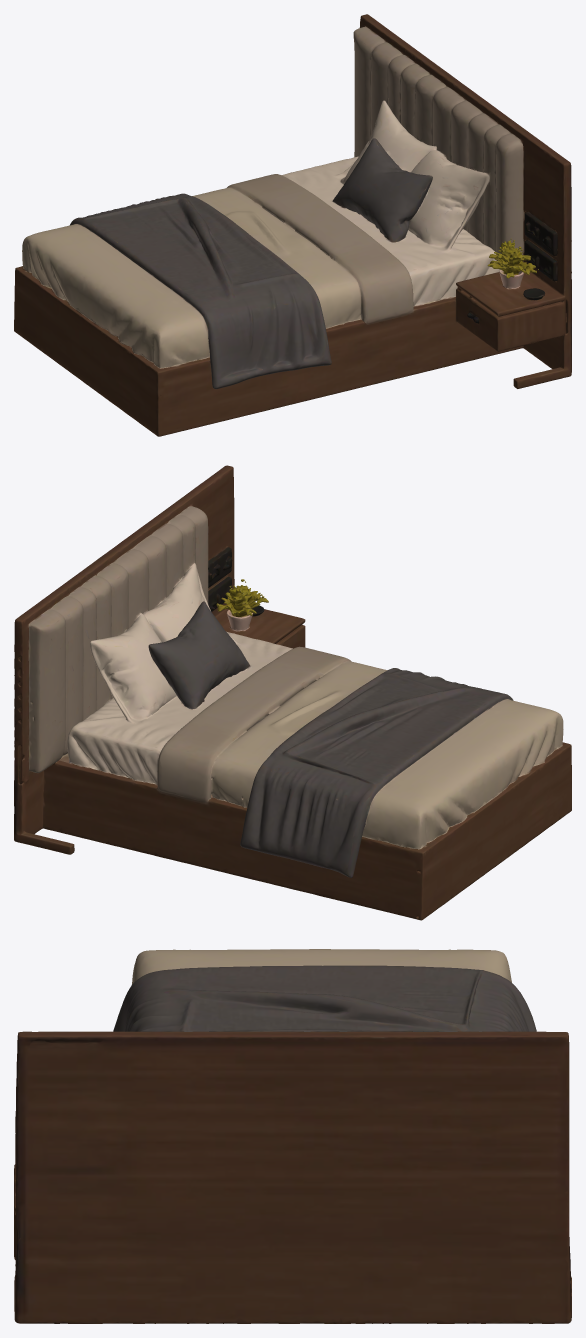
File: bed.glb
3 renders of one model, top to bottom at view 1: azimuth 30°, elevation 25°; view 2: azimuth 150°, elevation 25°; view 3: azimuth 270°, elevation 25°, orthographic. The views are drawn at different scales.
Parts seen in each view (by area): view 1: world; view 2: world; view 3: world.
Part boxes in pixels (<box>): world: <box>14,14,571,436</box>; world: <box>14,465,571,920</box>; world: <box>14,949,571,1323</box>.
Bounding box in the file's own units: 1 × 0.5465 × 0.9579.
1 material, 1 textured.
